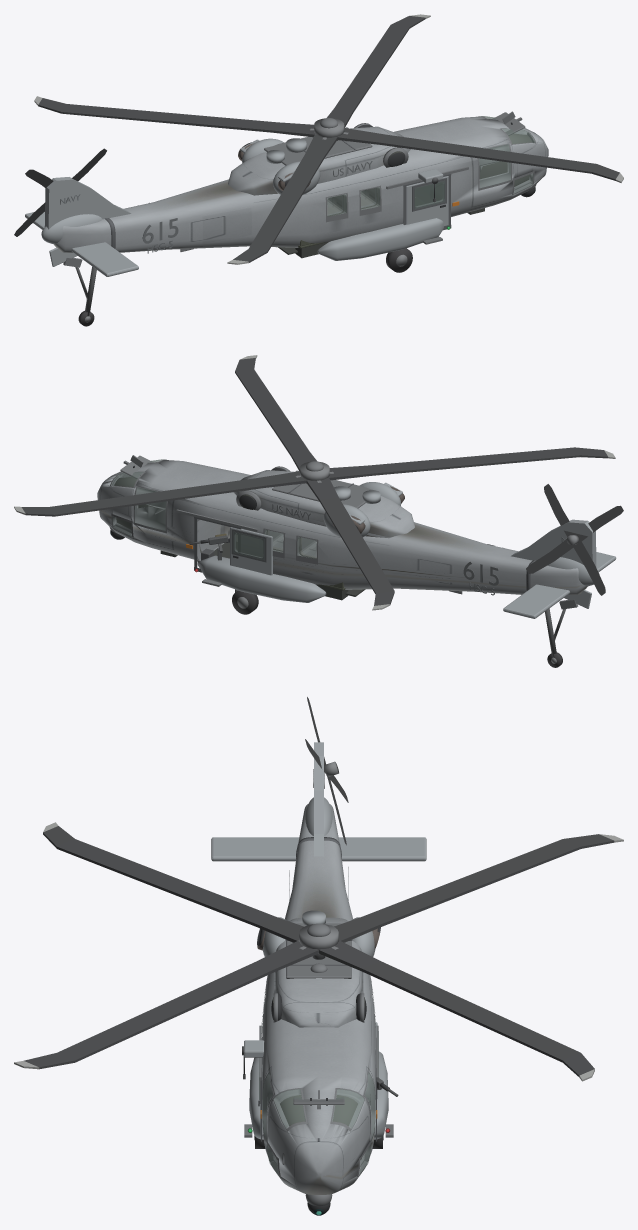
The model's file is seahawk.glb.
3 renders of one model, top to bottom at view 1: azimuth 30°, elevation 25°; view 2: azimuth 150°, elevation 25°; view 3: azimuth 270°, elevation 25°, orthographic. The views are drawn at different scales.
Parts seen in each view (by area): view 1: SH_Fuselage, SH_Doghouse, SH_Blade3, SH_Blade1, SH_Blade2, SH_SponsonStbd, SH_Blade0, SH_TailFin, SH_Stabilator, SH_DoorStbd, SH_DeckTop, SH_GlazeCockpitWinStbd (+4 smaller); view 2: SH_Fuselage, SH_Doghouse, SH_Blade0, SH_Blade2, SH_Blade1, SH_SponsonPort, SH_Blade3, SH_TailFin, SH_Stabilator, SH_DeckTop, SH_DoorPort, SH_GlazeCockpitWinPort (+7 smaller); view 3: SH_Fuselage, SH_Blade3, SH_Blade0, SH_Blade1, SH_Blade2, SH_Doghouse, SH_Stabilator, SH_DeckTop, SH_TailFin, SH_CockpitShell, SH_GlazeWindshieldPort, SH_GlazeWindshieldStbd (+2 smaller).
Boxes of the visible parts, left/top/right/bottom form: SH_Fuselage: left=54, top=116, right=548, bottom=252; SH_Doghouse: left=228, top=126, right=410, bottom=195; SH_Blade3: left=337, top=128, right=623, bottom=182; SH_Blade1: left=34, top=96, right=315, bottom=137; SH_Blade2: left=227, top=134, right=337, bottom=264; SH_SponsonStbd: left=317, top=218, right=443, bottom=260; SH_Blade0: left=327, top=14, right=430, bottom=127; SH_TailFin: left=44, top=177, right=131, bottom=229; SH_Stabilator: left=25, top=212, right=138, bottom=276; SH_DoorStbd: left=406, top=176, right=448, bottom=226; SH_DeckTop: left=264, top=127, right=372, bottom=165; SH_GlazeCockpitWinStbd: left=479, top=144, right=510, bottom=188; SH_Fuselage: left=97, top=460, right=587, bottom=594; SH_Doghouse: left=234, top=470, right=414, bottom=538; SH_Blade0: left=14, top=471, right=306, bottom=516; SH_Blade2: left=328, top=447, right=615, bottom=480; SH_Blade1: left=306, top=478, right=394, bottom=610; SH_SponsonPort: left=197, top=555, right=326, bottom=602; SH_Blade3: left=235, top=355, right=317, bottom=471; SH_TailFin: left=511, top=519, right=596, bottom=566; SH_Stabilator: left=503, top=552, right=616, bottom=618; SH_DeckTop: left=272, top=470, right=379, bottom=508; SH_DoorPort: left=230, top=527, right=272, bottom=575; SH_GlazeCockpitWinPort: left=134, top=487, right=166, bottom=530; SH_Fuselage: left=262, top=804, right=375, bottom=1194; SH_Blade3: left=14, top=941, right=318, bottom=1069; SH_Blade0: left=319, top=941, right=594, bottom=1081; SH_Blade1: left=334, top=834, right=623, bottom=942; SH_Blade2: left=43, top=822, right=303, bottom=942; SH_Doghouse: left=275, top=917, right=362, bottom=1027; SH_Stabilator: left=211, top=837, right=426, bottom=861; SH_DeckTop: left=286, top=923, right=351, bottom=978; SH_TailFin: left=314, top=742, right=323, bottom=856; SH_CockpitShell: left=276, top=1095, right=361, bottom=1159; SH_GlazeWindshieldPort: left=332, top=1089, right=364, bottom=1128; SH_GlazeWindshieldStbd: left=273, top=1089, right=305, bottom=1128.
Size of the model in its own units: 16.13 by 5.21 by 12.42.
Materials: 28 (2 with a texture image).
